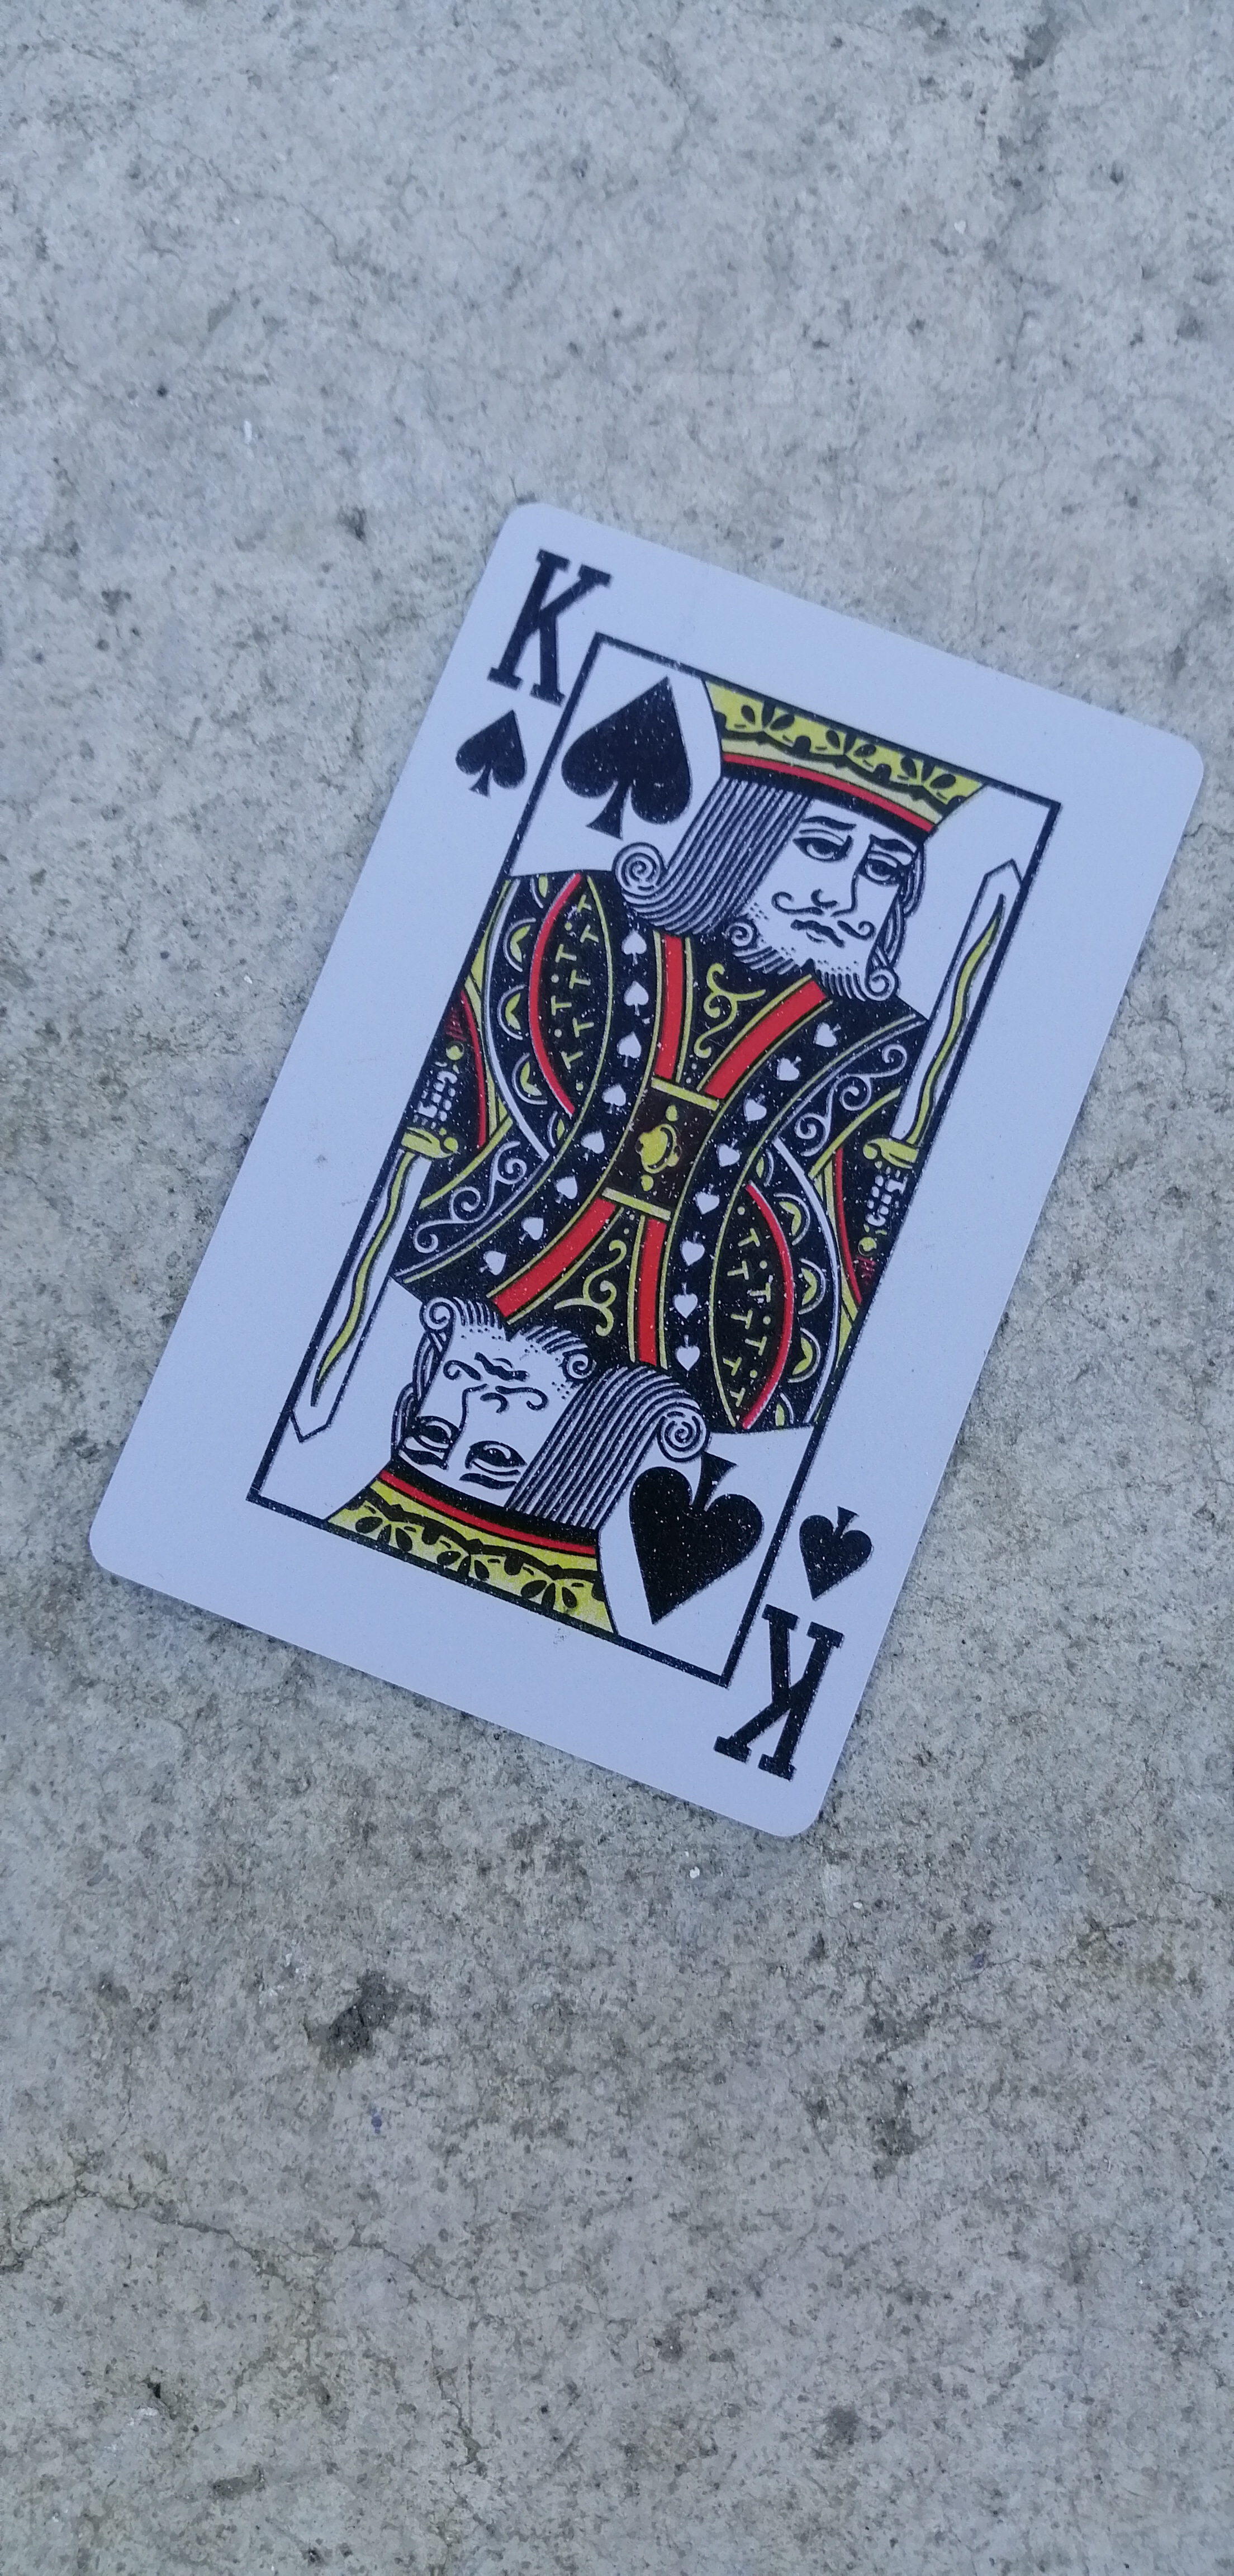king: (133, 490, 1152, 1853)
